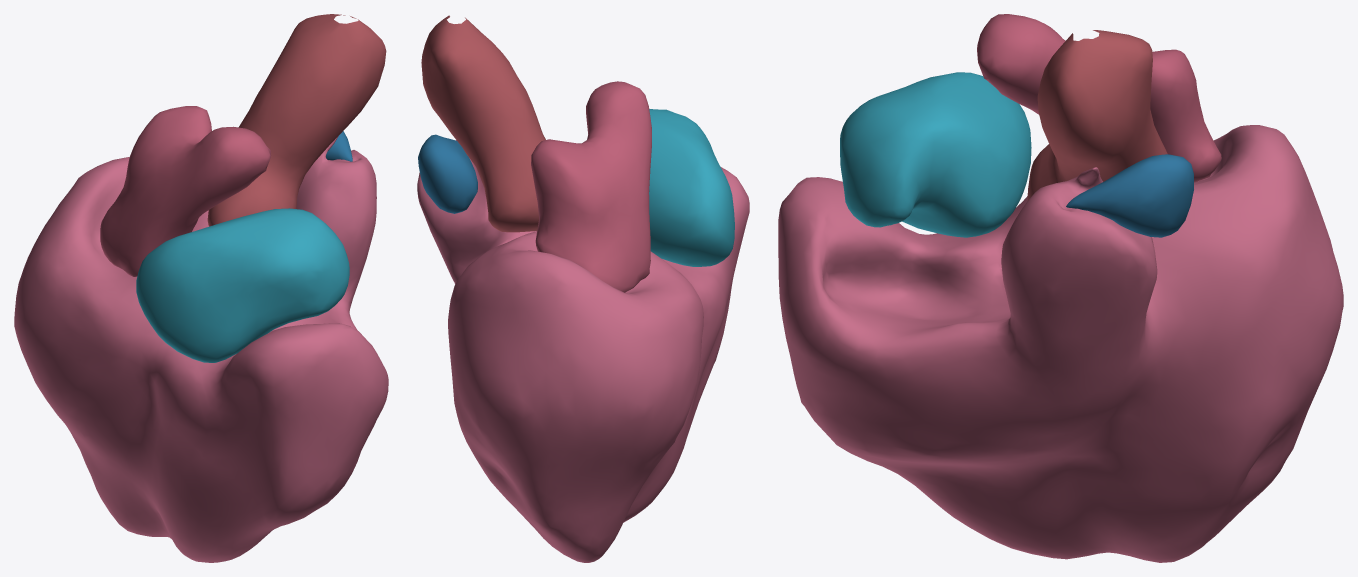
The model's file is frame_49.glb.
3 views of the same model, side by side, from view 1: azimuth 30°, elevation 25°; view 2: azimuth 150°, elevation 25°; view 3: azimuth 270°, elevation 25° (orthographic). The views are drawn at different scales.
Parts seen in each view (by area): view 1: Renderer Node; view 2: Renderer Node; view 3: Renderer Node.
Part boxes in pixels (x1,y1,x2,y2): Renderer Node: [14, 14, 388, 562]; Renderer Node: [417, 15, 749, 562]; Renderer Node: [778, 14, 1343, 562].
Bounding box in the file's own units: 102 × 158 × 130.
